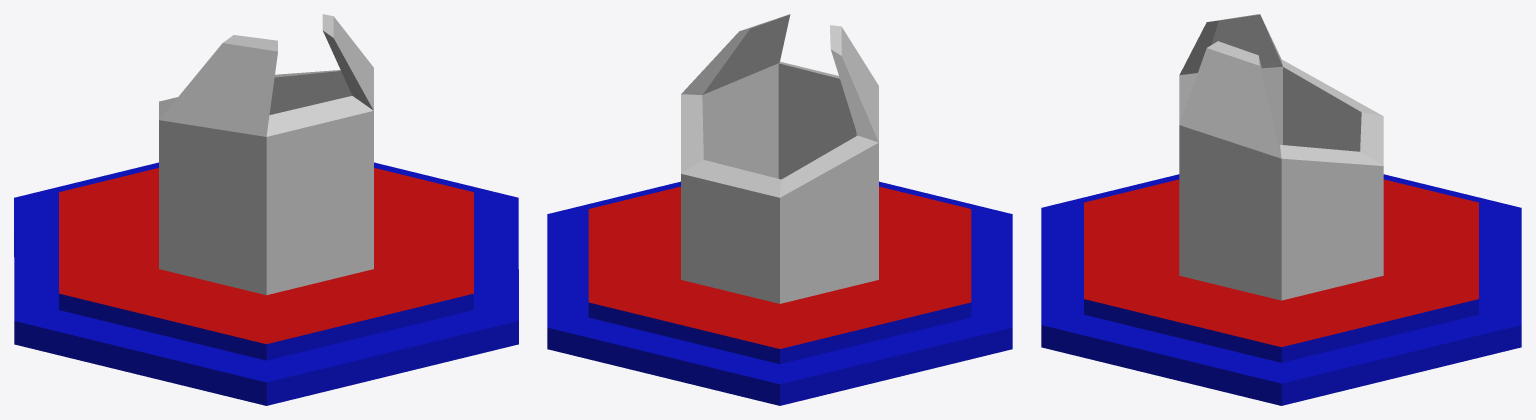
File: well.fbx
The picture shows the model from 3 angles, left to right: view 1: azimuth 30°, elevation 25°; view 2: azimuth 150°, elevation 25°; view 3: azimuth 270°, elevation 25°; orthographic projection. The views are drawn at different scales.
Parts seen in each view (by area): view 1: Well (×3); view 2: Well (×3); view 3: Well (×3).
Boxes of the visible parts, x1,y1,x2,y2 form: Well (×3): (14,14,518,405); Well (×3): (547,14,1012,405); Well (×3): (1041,14,1521,405).
Bounding box in the file's own units: 708 × 364 × 613.
